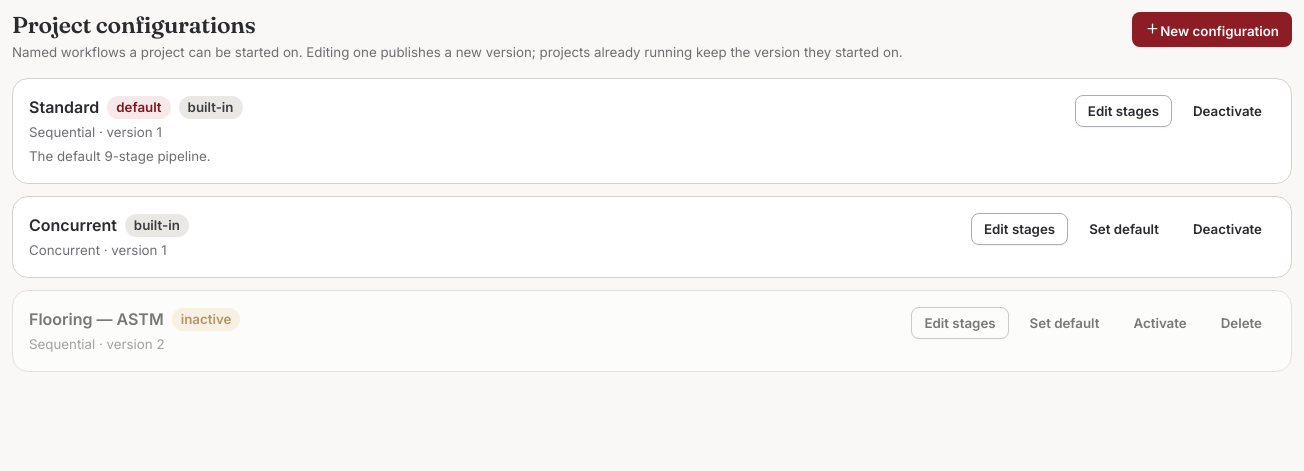
Test: ConfigurationsSection › surfaces a rejected action instead of silently failing
The width and height of the screenshot is (1304, 471).
Expected: the text "Delete" is shown, left=1221, top=317, right=1262, bottom=330
Step 1. Click the button "Delete" → (1241, 323), box left=1208, top=307, right=1275, bottom=339
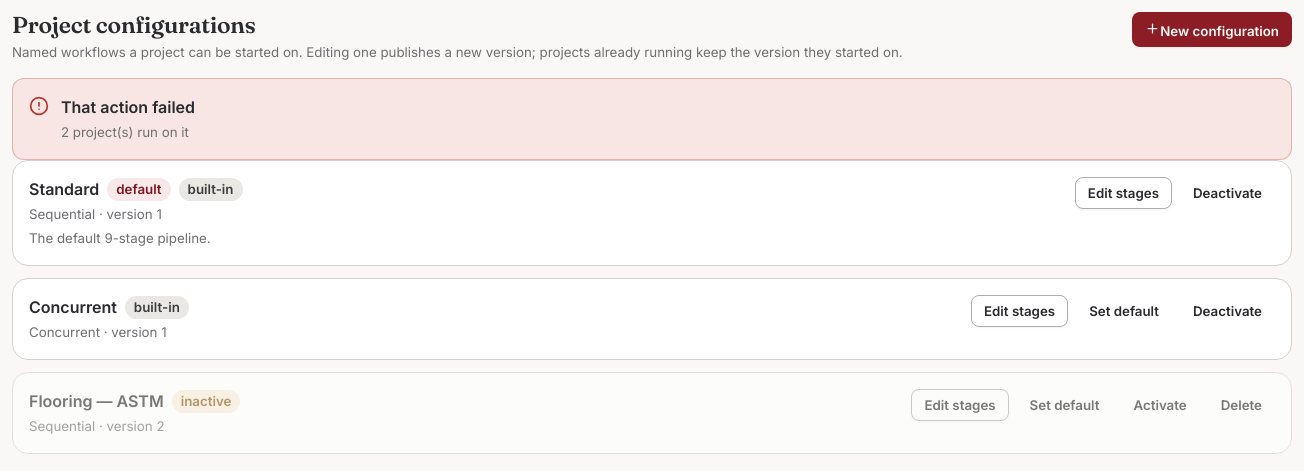
Now the text "2 project(s) run on it" is shown, box left=61, top=124, right=189, bottom=140
